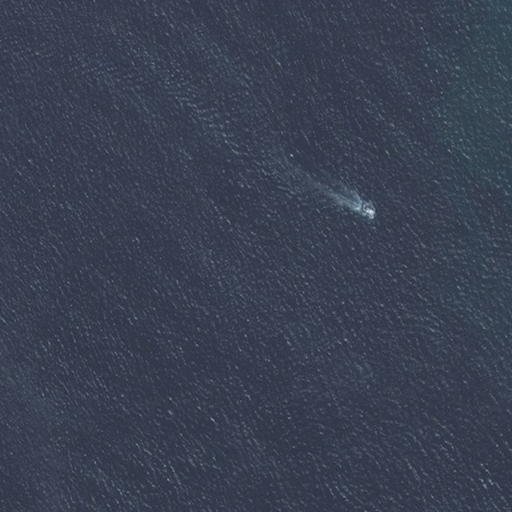ship: (361, 203, 377, 220)
